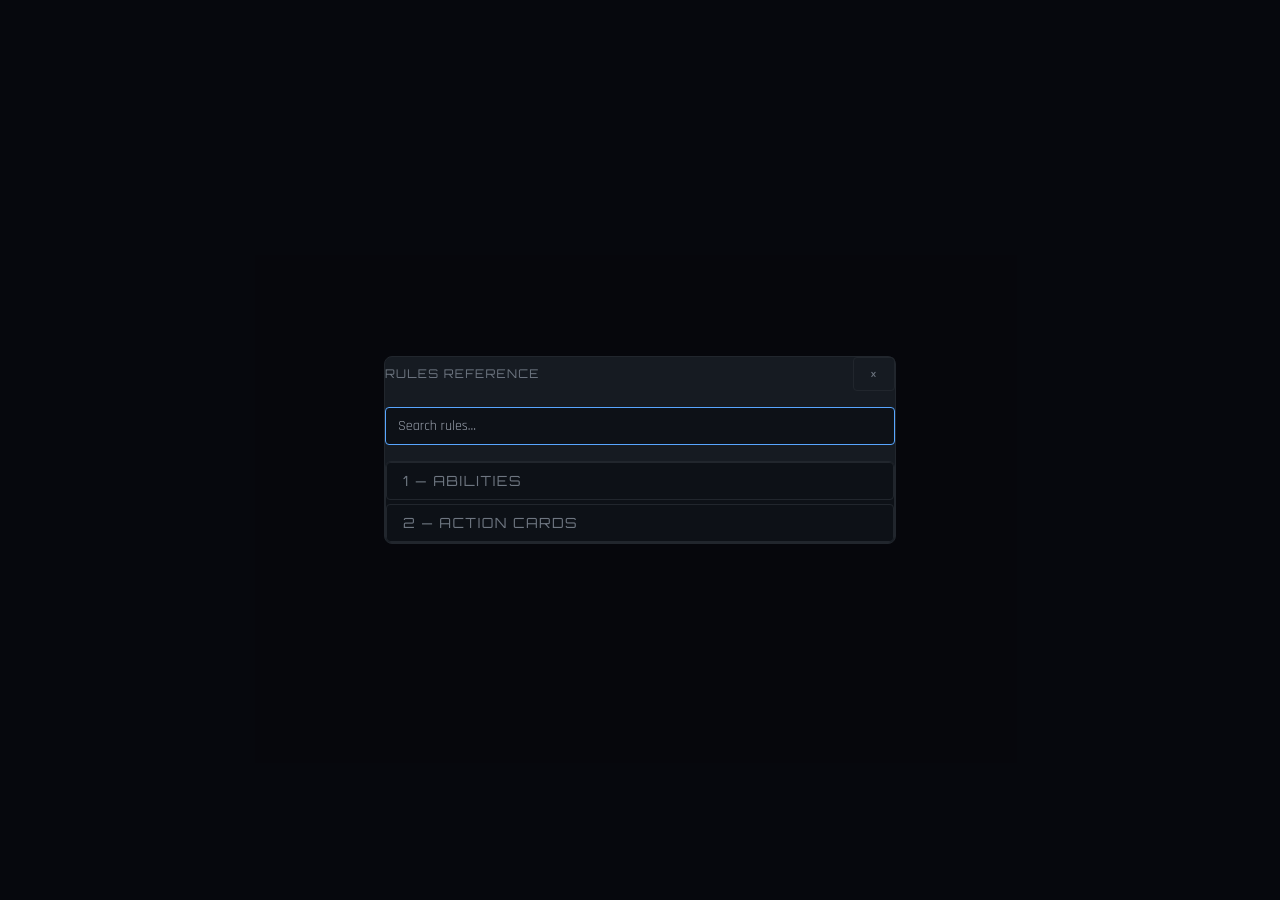
Scenario: RulesModal › only one section expanded at a time
The image size is (1280, 900).
Click the button with test id "section-1" at (478, 480), box [386, 462, 894, 500]
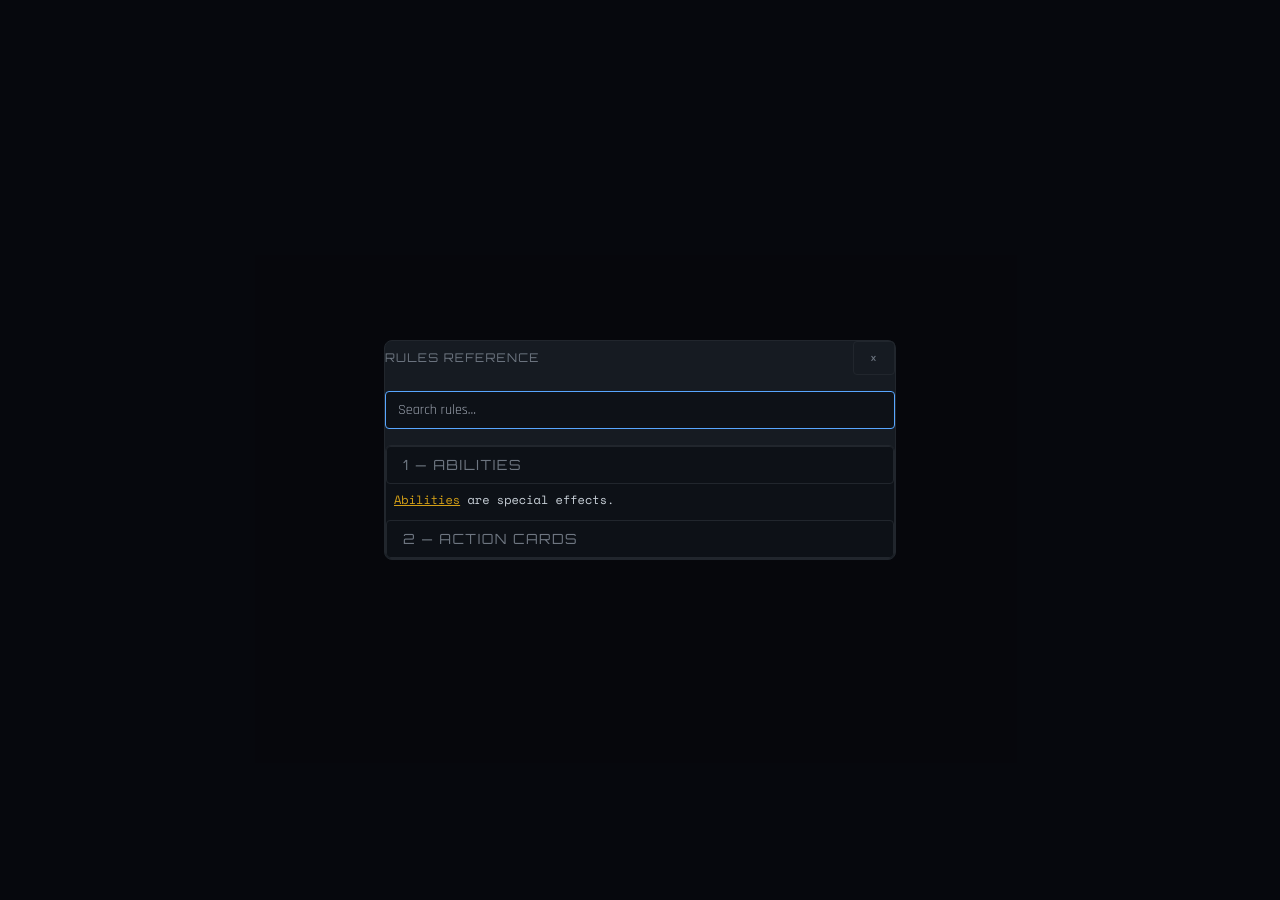
Click the button with test id "section-2" at (509, 538), box [386, 520, 894, 558]
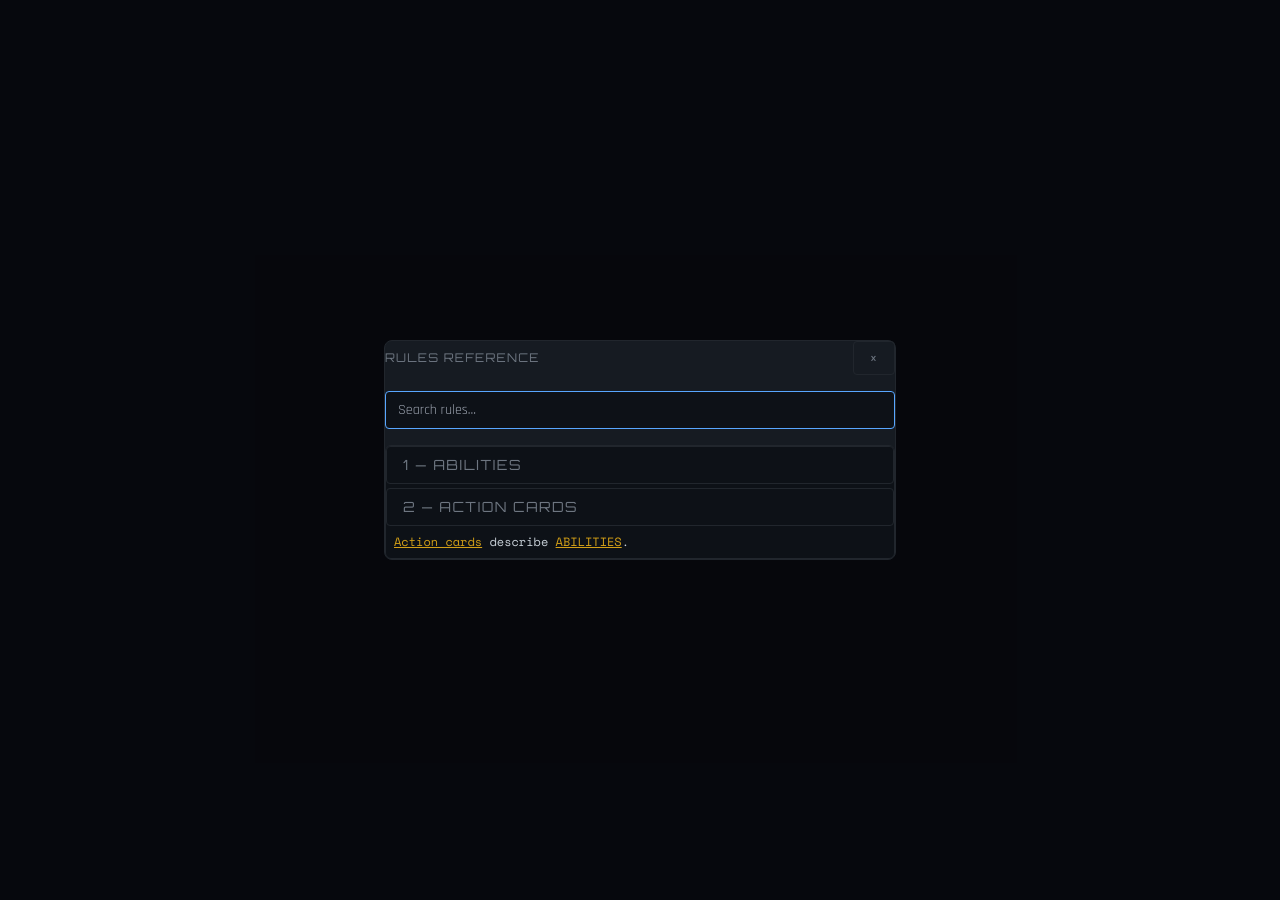
expect the element with test id "body-1" is gone: met
expect the element with test id "body-2" is shown: met, box [394, 533, 629, 550]
